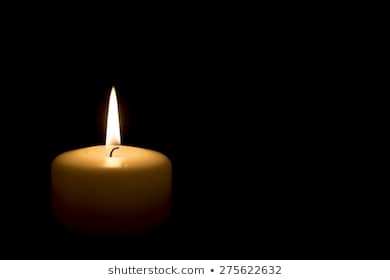Fire: (104, 85, 121, 151)
